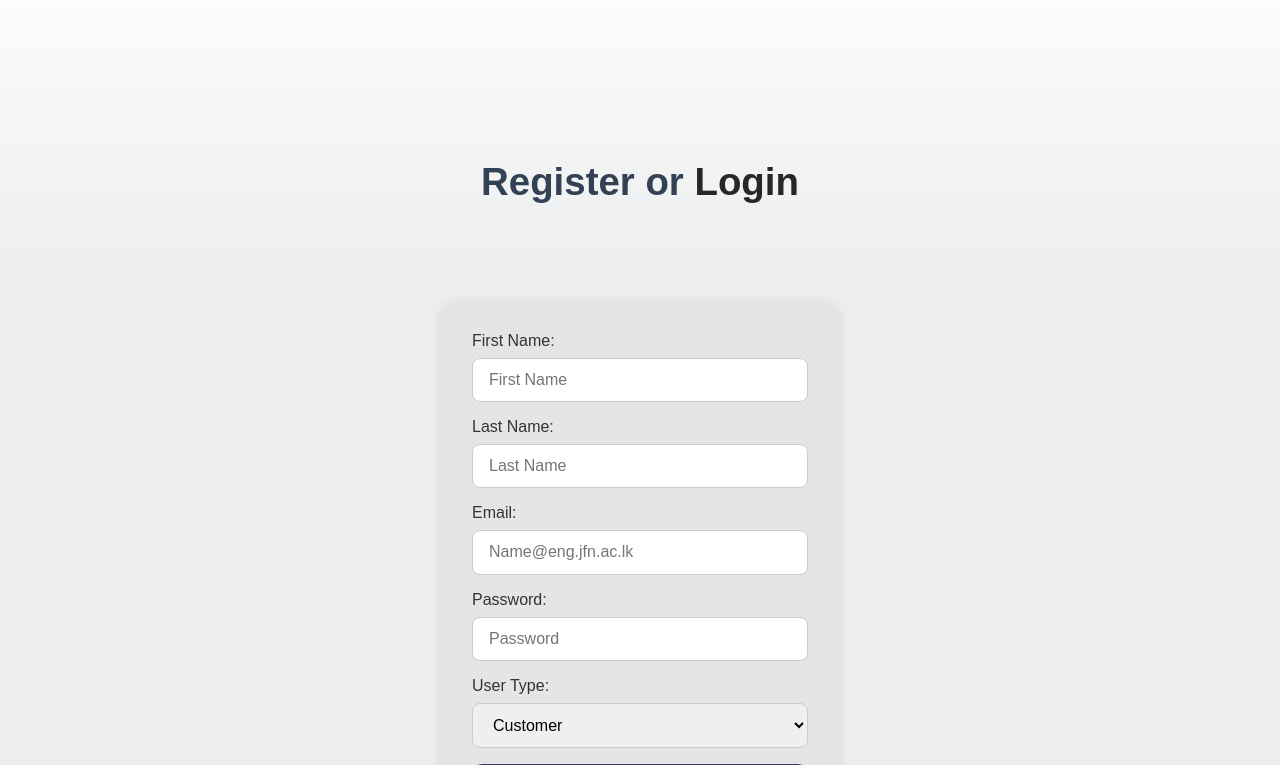
Auth Component › handles successful registration
This screenshot has width=1280, height=765.
Type "John" into the field labelled "First Name:".
click(640, 380); type("John")  # box [472,358,808,402]
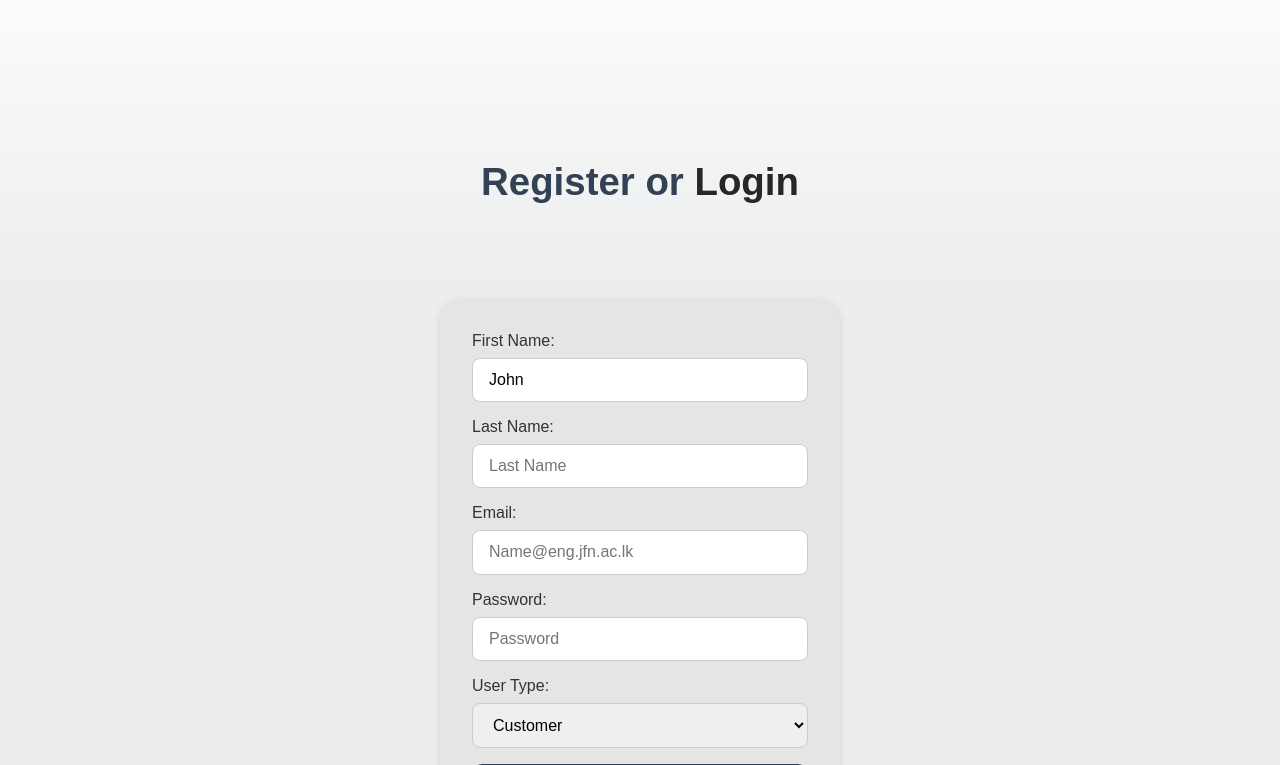
Type "Doe" into the field labelled "Last Name:".
click(640, 466); type("Doe")  # box [472,444,808,488]
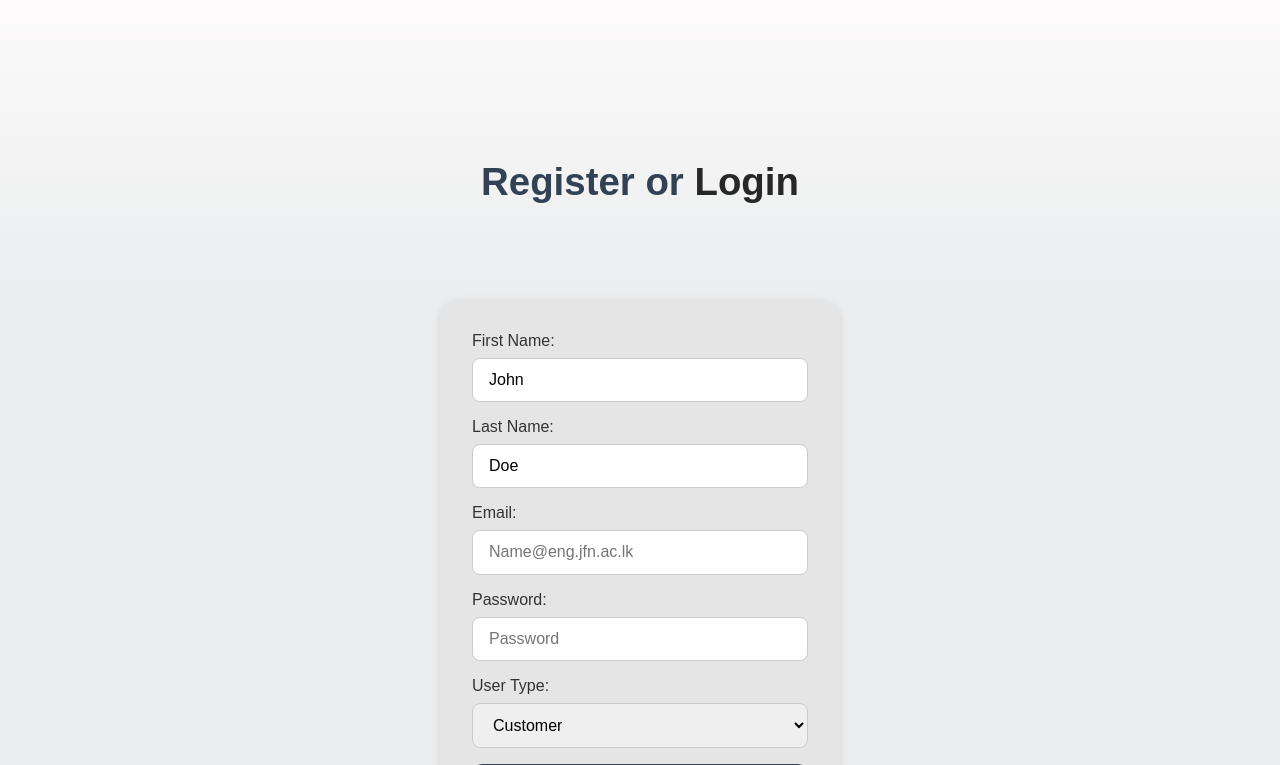
Type "john.doe@example.com" into the field labelled "Email:".
click(640, 553); type("john.doe@example.com")  # box [472,530,808,575]
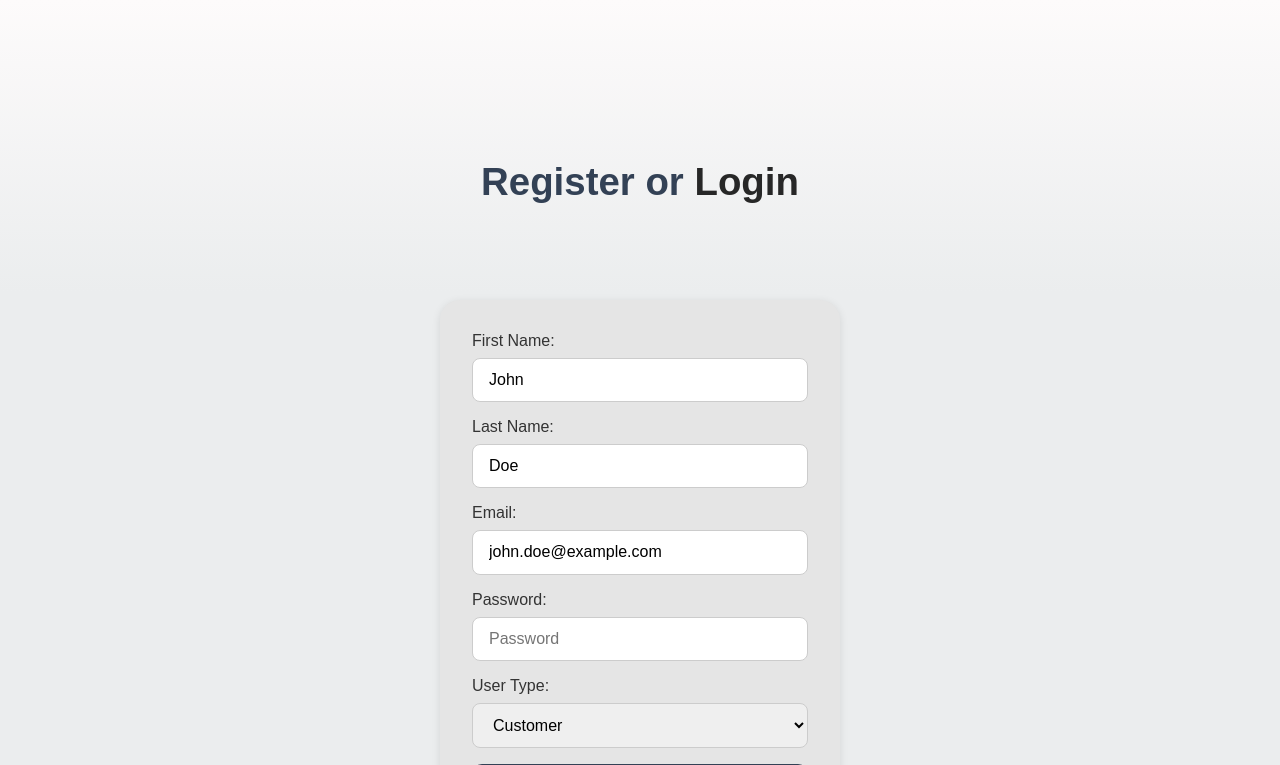
Type "password" into the password field labelled "Password:".
click(640, 639); type("password")  # box [472,617,808,661]
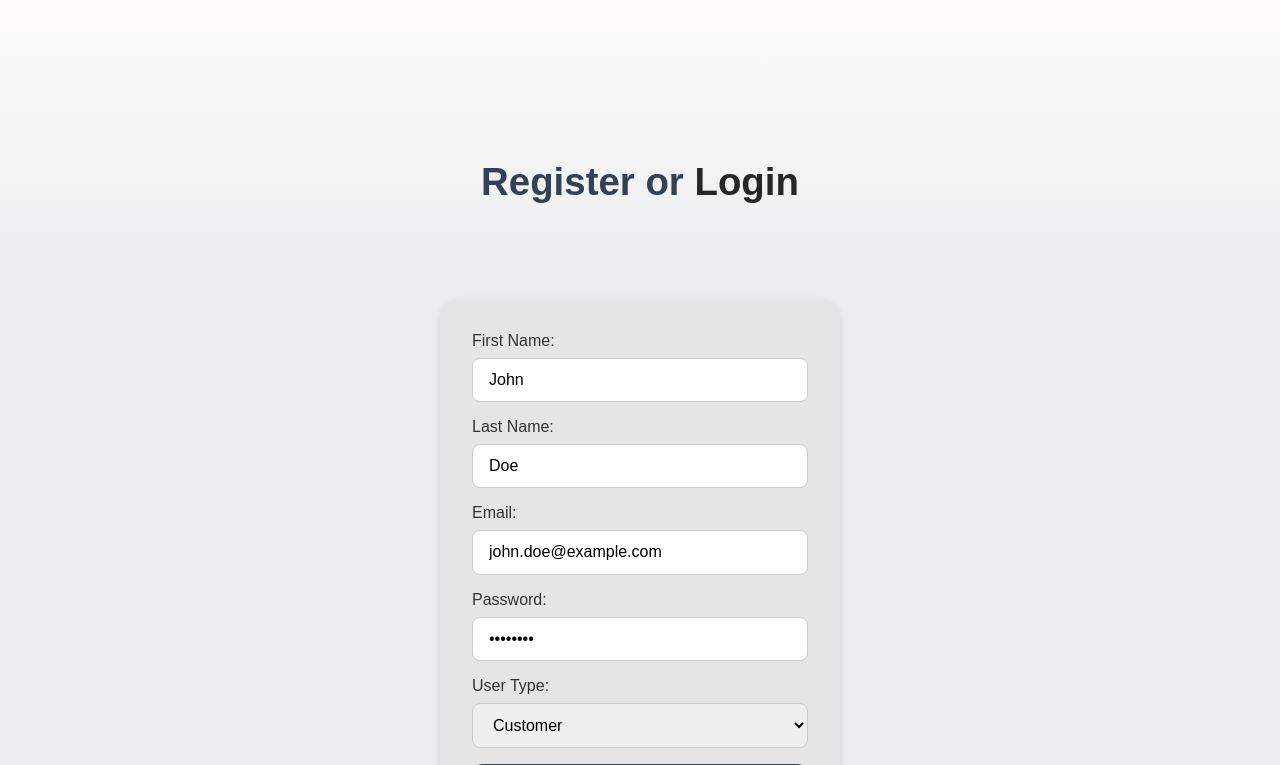
Select "Customer" in the dropdown labelled "User Type:" at [640, 726], box [472,703,808,748]
(page scrolled)
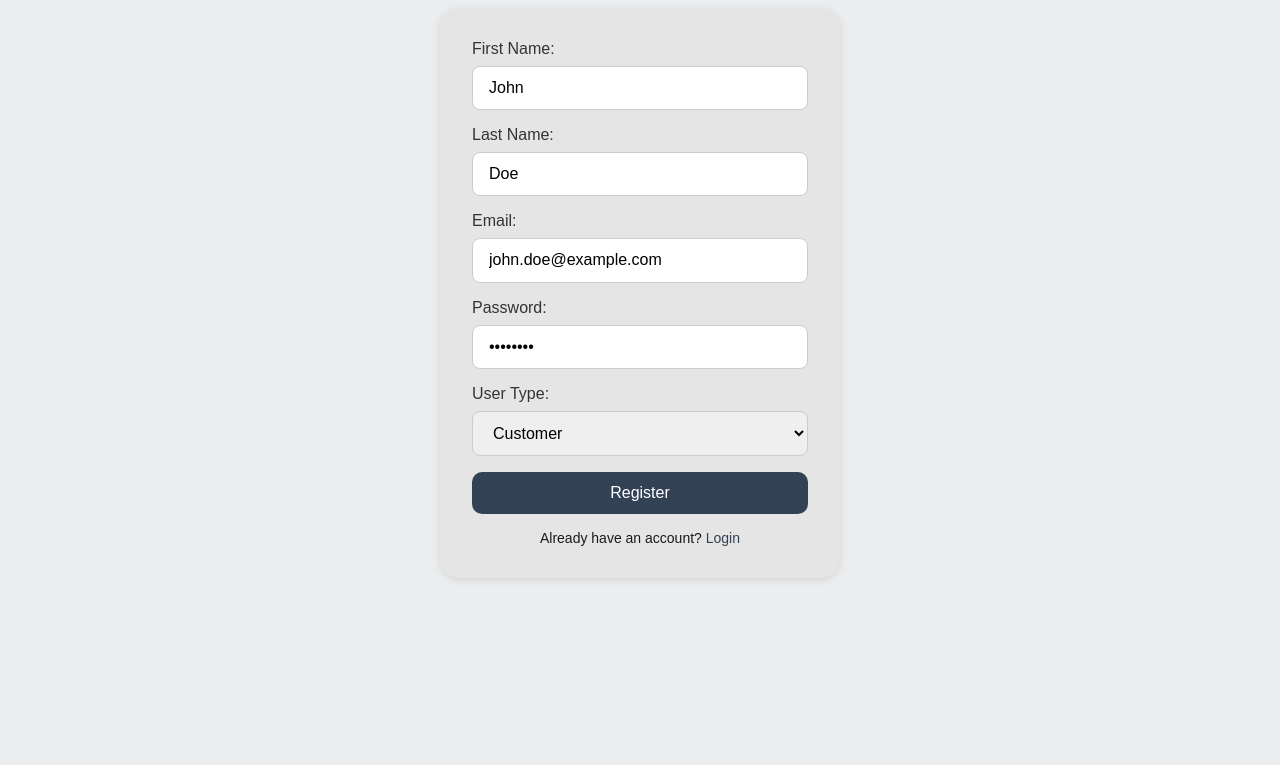
Click the button "Register".
click(640, 493)  # box [472,472,808,514]
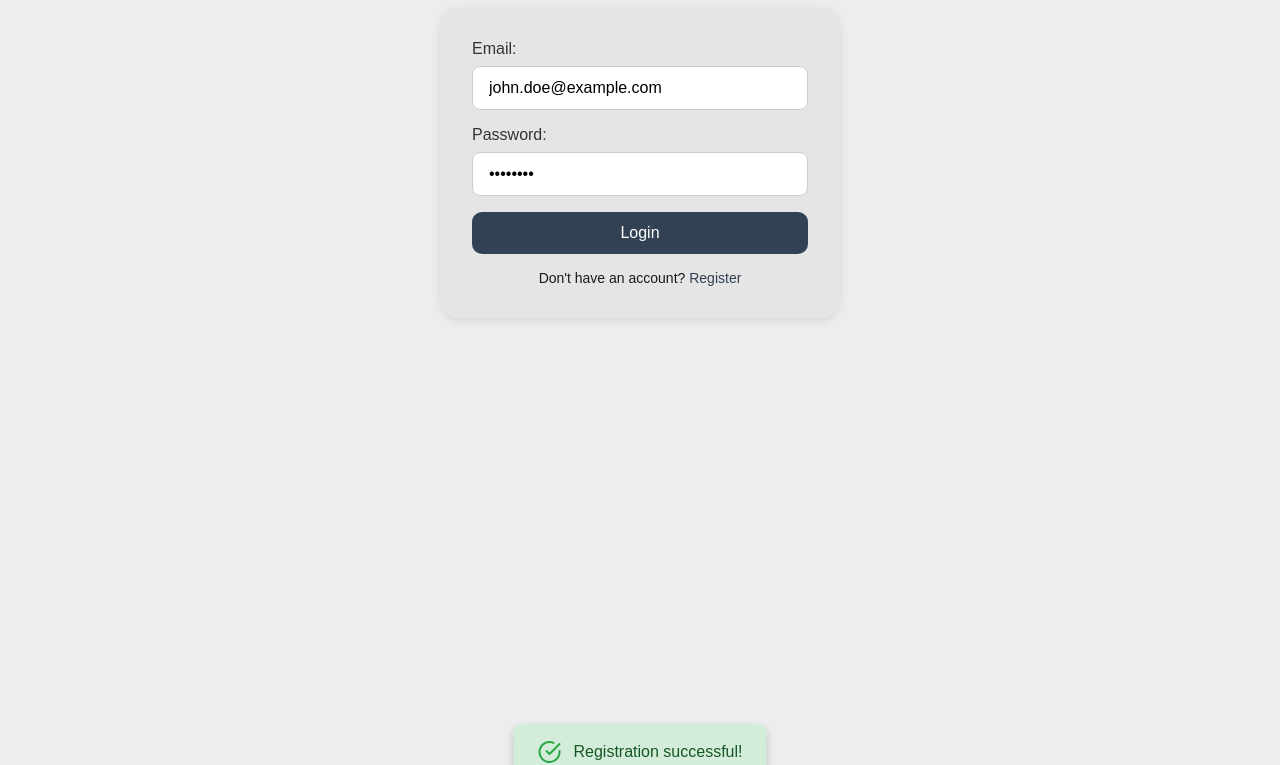
Result: the text "Registration successful!" is shown at [574,743,742,761]
